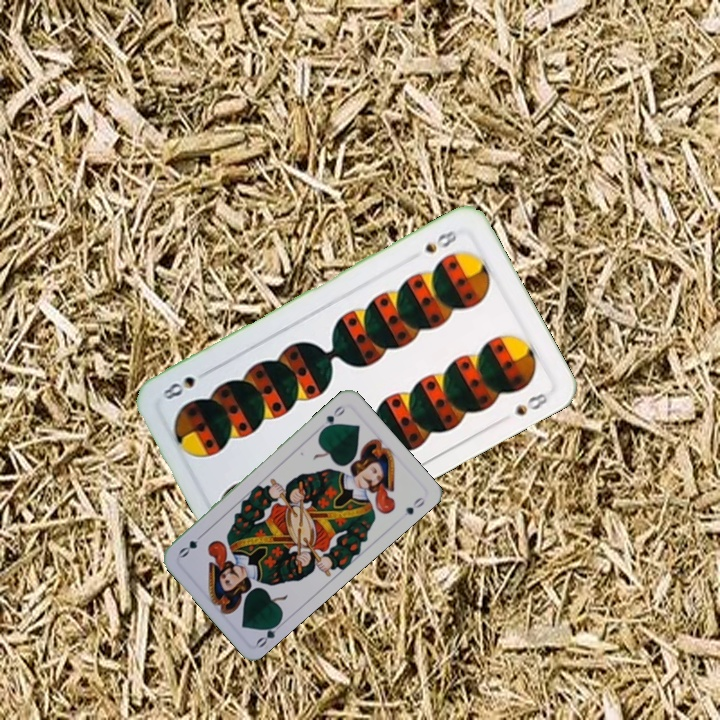GO: (252, 615, 287, 650), (317, 402, 349, 434)
S8: (421, 226, 460, 256)
